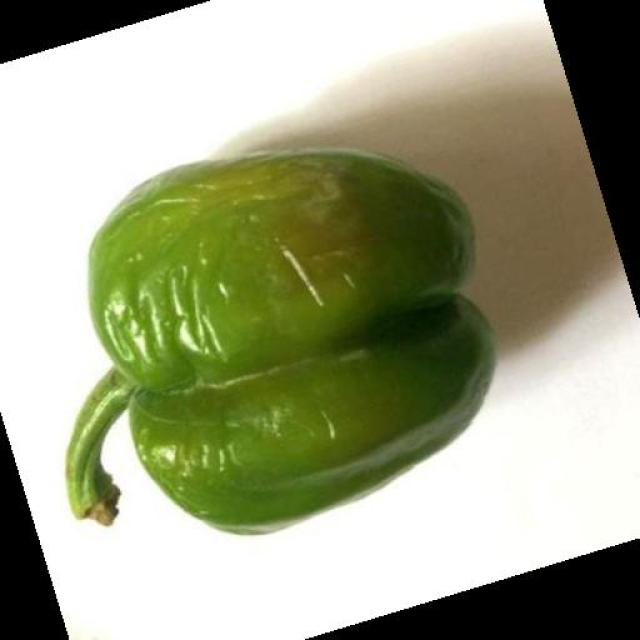Stale_Capsicum: (132, 117, 498, 505)
